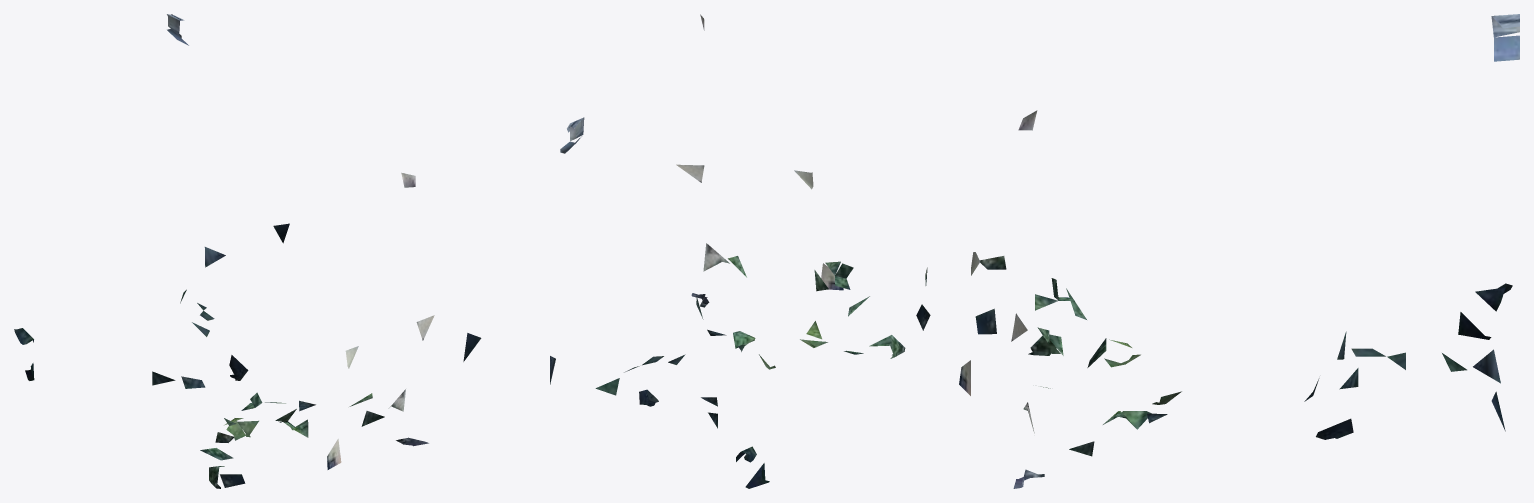
The picture shows the model from 3 angles, left to right: view 1: azimuth 30°, elevation 25°; view 2: azimuth 150°, elevation 25°; view 3: azimuth 270°, elevation 25°; orthographic projection. The views are drawn at different scales.
Parts seen in each view (by area): view 1: 30436272704361615726_1; view 2: 30436272704361615726_1; view 3: 30436272704361615726_1.
Boxes of the visible parts, left/top/right/bottom form: 30436272704361615726_1: left=14, top=14, right=434, bottom=488; 30436272704361615726_1: left=463, top=14, right=930, bottom=488; 30436272704361615726_1: left=959, top=14, right=1519, bottom=488.
Bounding box in the file's own units: 27.77 × 30.36 × 36.4.
Materials: 1 (1 with a texture image).
